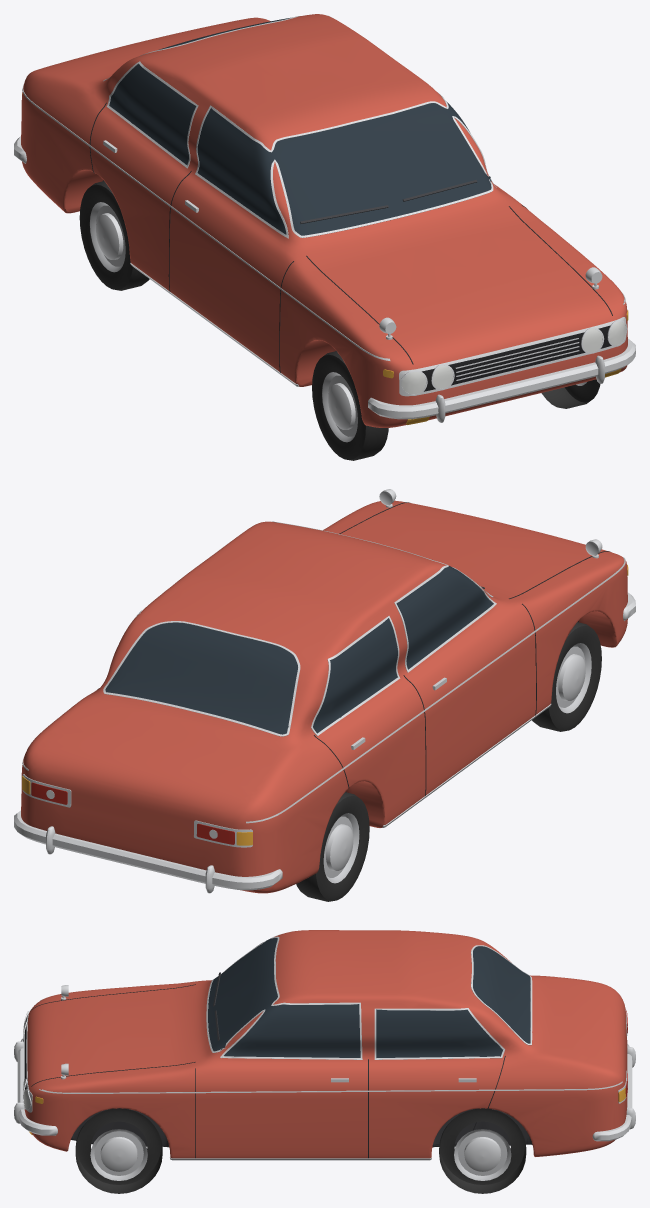
File: datsun510.glb
3 renders of one model, top to bottom at view 1: azimuth 30°, elevation 25°; view 2: azimuth 150°, elevation 25°; view 3: azimuth 270°, elevation 25°, orthographic. The views are drawn at different scales.
Visible parts, largest first — view 1: paint, glass, trim, wheel_fr, wheel_rr, headlights, wheel_fl; view 2: paint, glass, trim, wheel_rr, wheel_fr, taillights; view 3: paint, glass, trim, wheel_rl, wheel_fl.
Boxes of the visible parts, box(x1,y1,x2,y2) form: paint: box(21, 14, 627, 427); glass: box(109, 17, 491, 235); trim: box(14, 15, 635, 422); wheel_fr: box(312, 351, 388, 460); wheel_rr: box(79, 181, 149, 290); headlights: box(401, 322, 626, 394); wheel_fl: box(541, 379, 600, 408); paint: box(21, 500, 627, 893); glass: box(105, 566, 493, 734); trim: box(14, 502, 635, 893); wheel_rr: box(296, 792, 369, 901); wheel_fr: box(532, 622, 601, 731); taillights: box(31, 782, 234, 844); paint: box(24, 930, 627, 1158); glass: box(208, 938, 530, 1057); trim: box(14, 934, 635, 1160); wheel_rl: box(439, 1108, 526, 1193); wheel_fl: box(75, 1108, 162, 1193).
Bounding box in the file's own units: 1.56 × 1.4 × 4.14.
